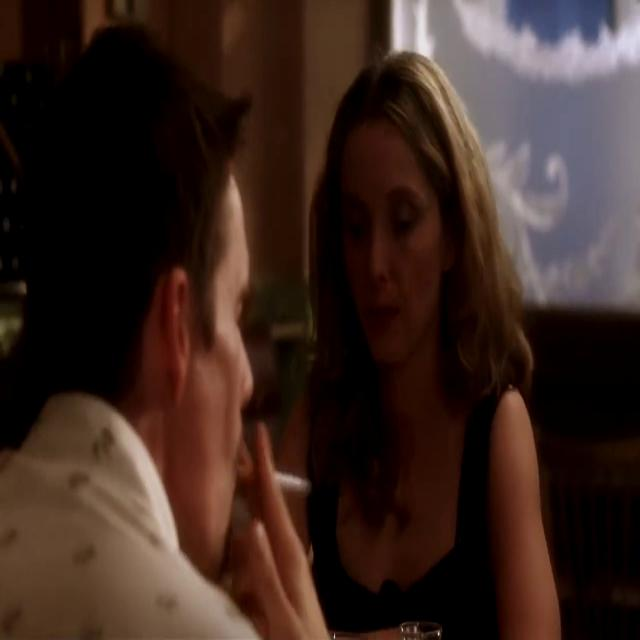Smooking: (252, 458, 316, 502)
